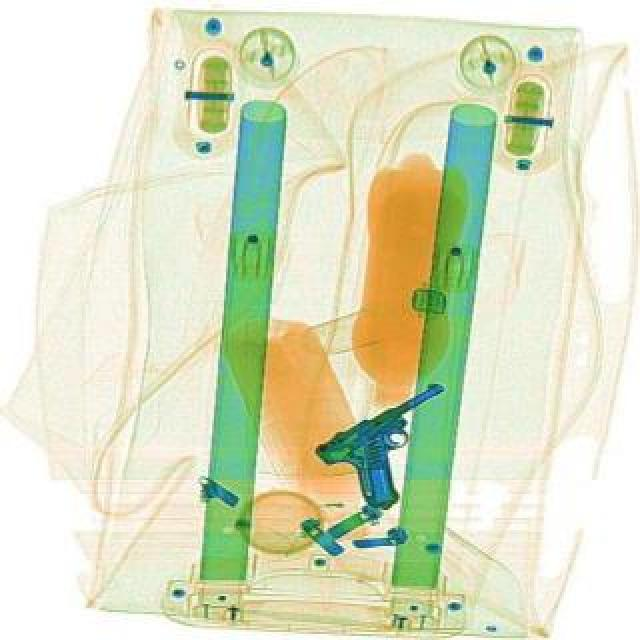gun: (312, 372, 486, 518)
